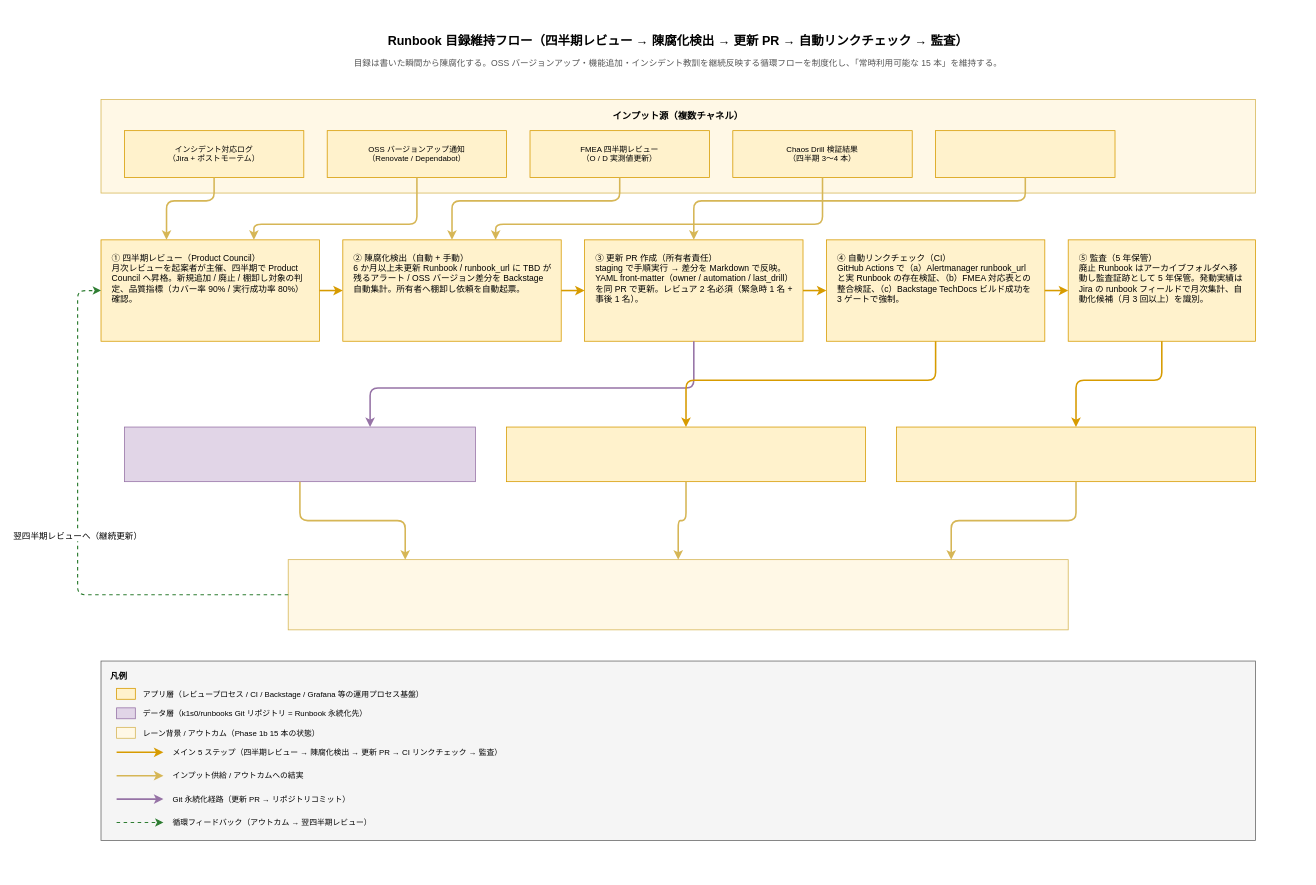
Image size: 1316x885. Some labels were removed from this diagram. Each missing label, with the centre of its shape:
Backstage TechDocs（全社ポータル） Runbook / 目録ビュー / 最終更新日 / 発動実績（6 か月）/ Chaos Drill 日: (685,454)
Grafana 品質ダッシュボード カバー率 / 実行成功率 / 所要時間乖離 / 更新頻度: (1075,454)
k1s0/runbooks Git リポジトリ 全社閲覧可・運用 + 起案者 + 協力者のみ Write: (299,454)
常時利用可能な Runbook 15 本（Phase 1b コミット） 2 名運用 / RTO 4h / SLA 99% / SLO 99.9% を守る運用資産: (677,594)
新機能追加 PR （PR テンプレート Runbook 欄）: (1025,153)
